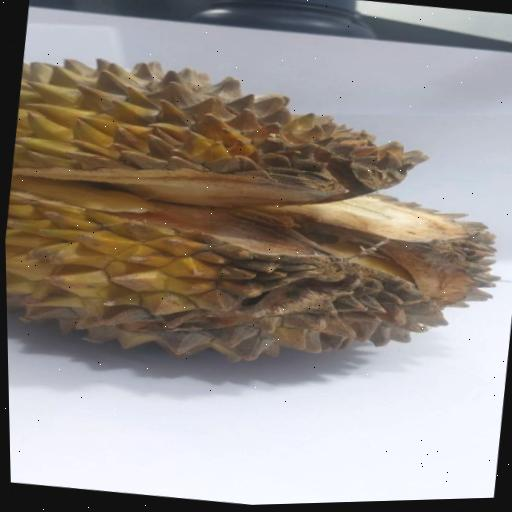rot: (1, 22, 512, 420)
